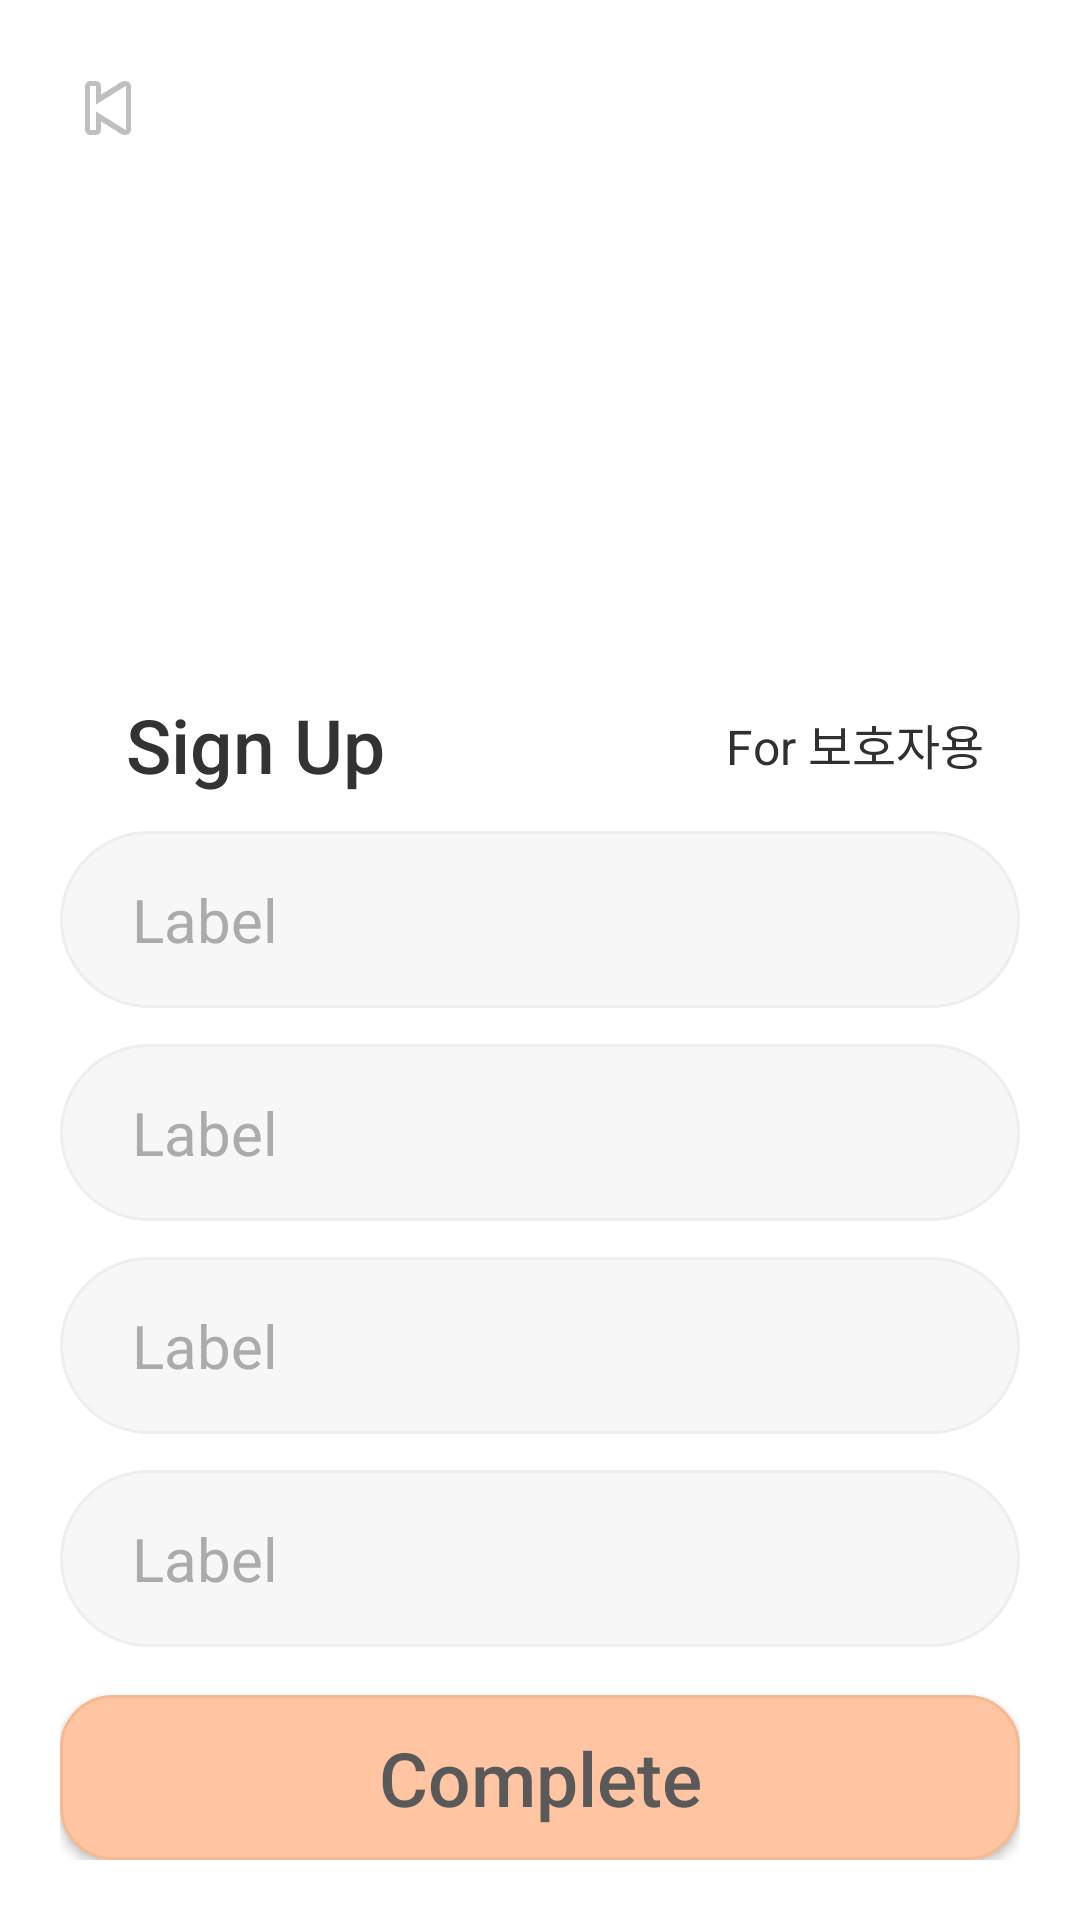

Named icons in this screenshot (1080×1920) and their bounding boxes, [x1=x1, y1=y1, x2=x2, y2=y2]:
뒤로가기: [x1=85, y1=81, x2=131, y2=135]
